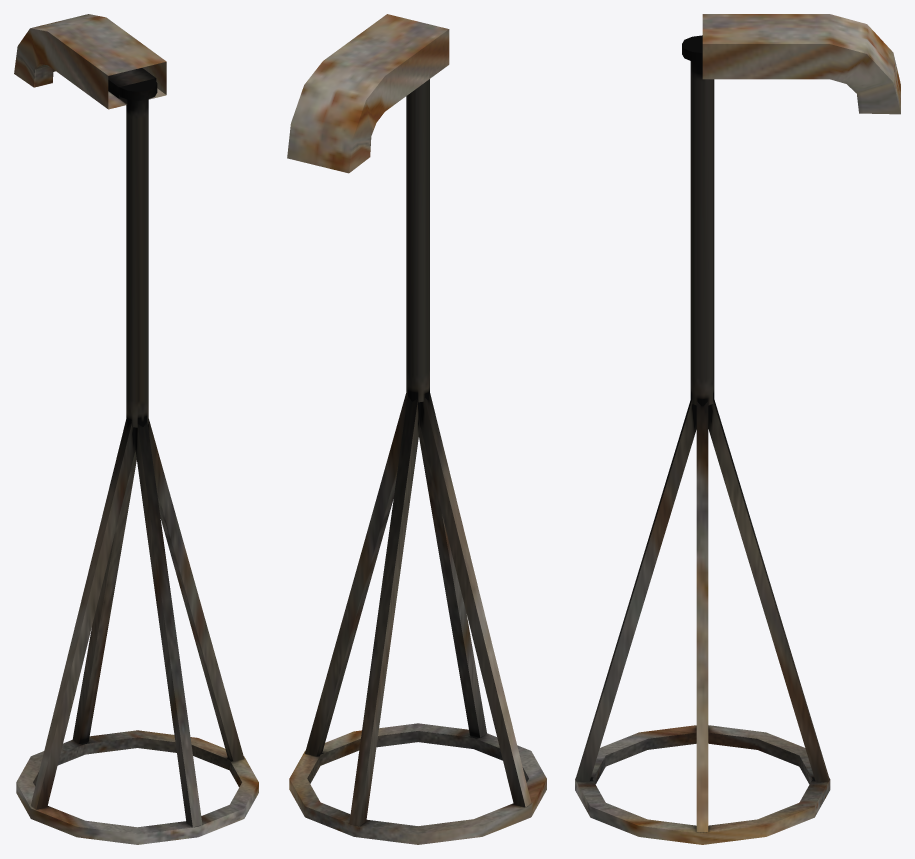
Rendered from LaneEnd.FBX.
The picture shows the model from 3 angles, left to right: view 1: azimuth 30°, elevation 25°; view 2: azimuth 150°, elevation 25°; view 3: azimuth 270°, elevation 25°; orthographic projection. The views are drawn at different scales.
Visible parts, largest first — view 1: Kassya_mdl, LaneLineEnd_mdl; view 2: Kassya_mdl, LaneLineEnd_mdl; view 3: Kassya_mdl, LaneLineEnd_mdl.
Boxes of the visible parts, x1=… form: Kassya_mdl: x1=16, y1=79, x2=258, y2=844; LaneLineEnd_mdl: x1=14, y1=14, x2=166, y2=109; Kassya_mdl: x1=289, y1=79, x2=546, y2=844; LaneLineEnd_mdl: x1=287, y1=14, x2=449, y2=173; Kassya_mdl: x1=575, y1=35, x2=830, y2=844; LaneLineEnd_mdl: x1=702, y1=14, x2=900, y2=114.
Bounding box in the file's own units: 73.06 × 237 × 91.92.
Materials: 2 (2 with a texture image).
